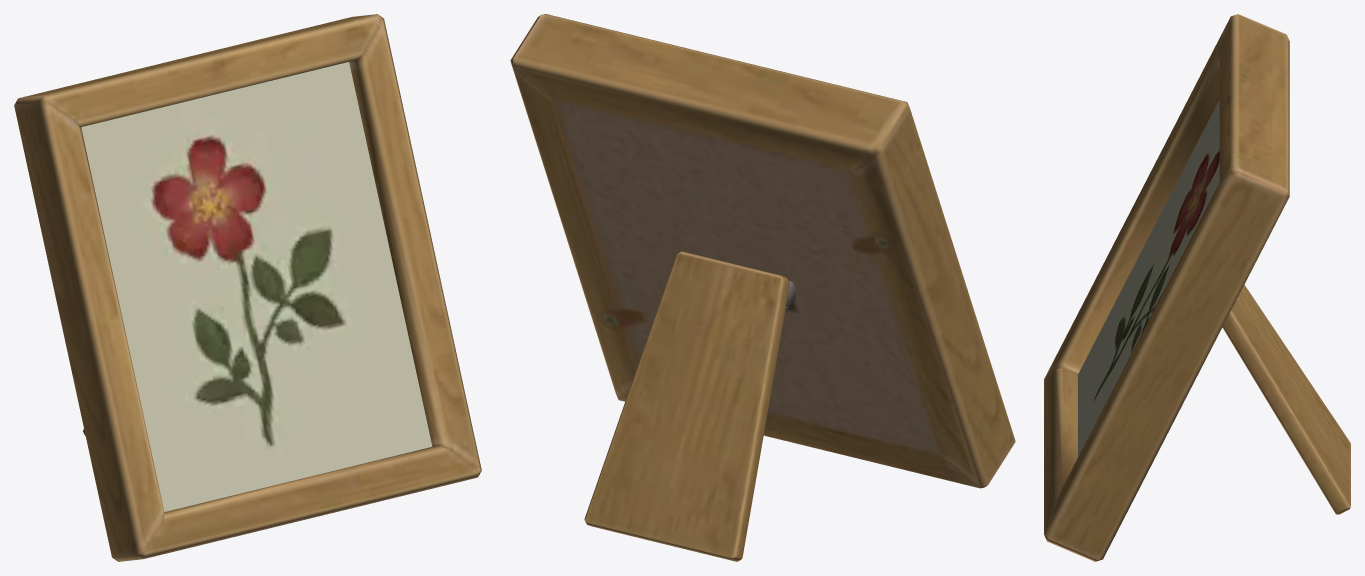
3 views of the same model, side by side, from view 1: azimuth 30°, elevation 25°; view 2: azimuth 150°, elevation 25°; view 3: azimuth 270°, elevation 25° (orthographic). The views are drawn at different scales.
Size of the model in its own units: 4.41 by 5.03 by 3.56.
2 materials, 2 textured.
